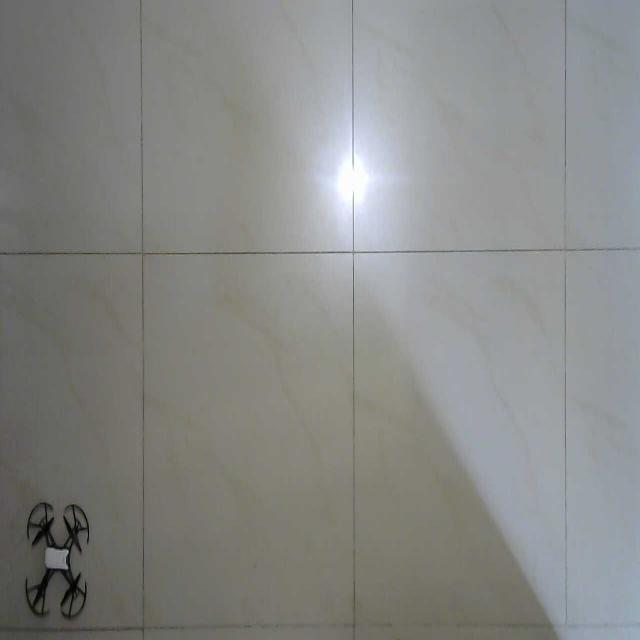drone: (23, 499, 89, 620)
